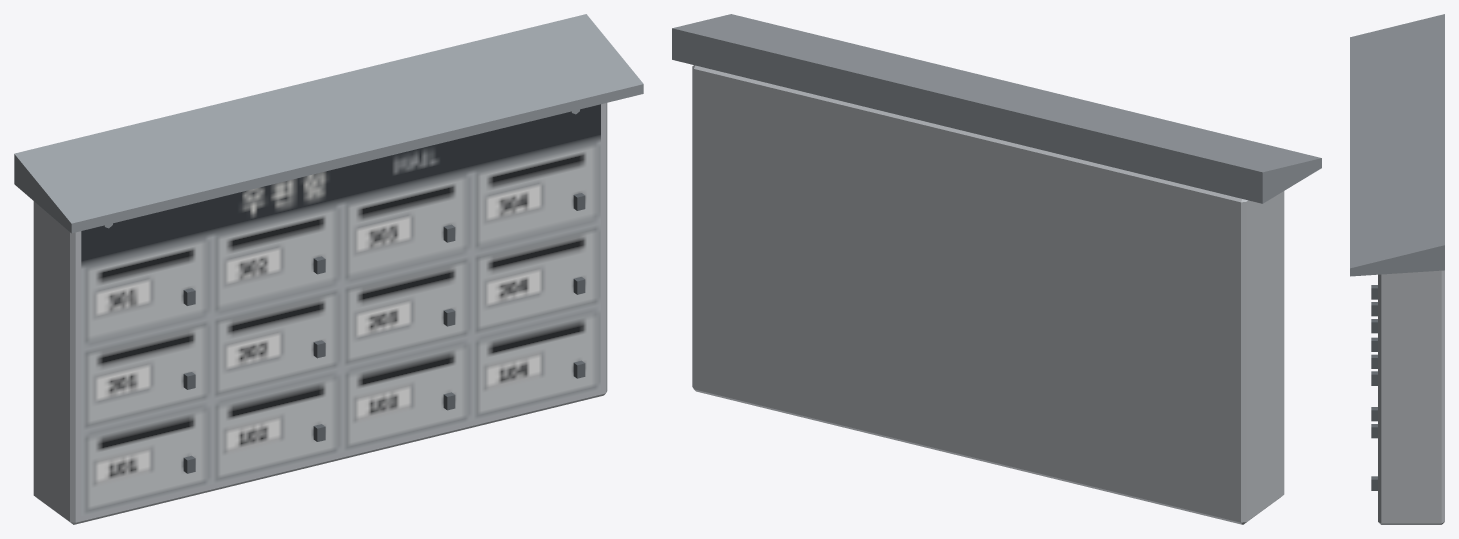
Rendered from SC_Bld_Villa_Mailbox_Cluster.gltf.
The picture shows the model from 3 angles, left to right: view 1: azimuth 30°, elevation 25°; view 2: azimuth 150°, elevation 25°; view 3: azimuth 270°, elevation 25°; orthographic projection. The views are drawn at different scales.
Visible parts, largest first — view 1: SC_Bld_Villa_Mailbox_Cluster; view 2: SC_Bld_Villa_Mailbox_Cluster; view 3: SC_Bld_Villa_Mailbox_Cluster.
Boxes of the visible parts, x1,y1,x2,y2 form: SC_Bld_Villa_Mailbox_Cluster: (14, 14, 643, 524); SC_Bld_Villa_Mailbox_Cluster: (672, 14, 1321, 524); SC_Bld_Villa_Mailbox_Cluster: (1350, 14, 1444, 524).
Size of the model in its own units: 0.98 by 0.57 by 0.17.
Materials: 2 (2 with a texture image).
